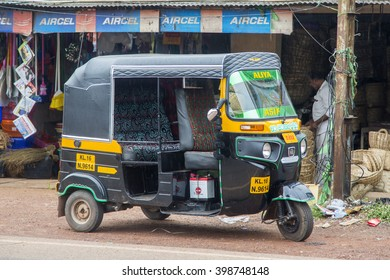threewheel: (55, 52, 315, 241)
